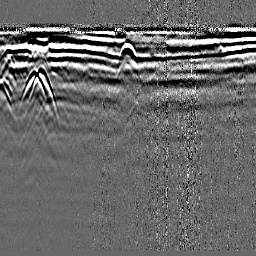cavity: (119, 40, 136, 60)
